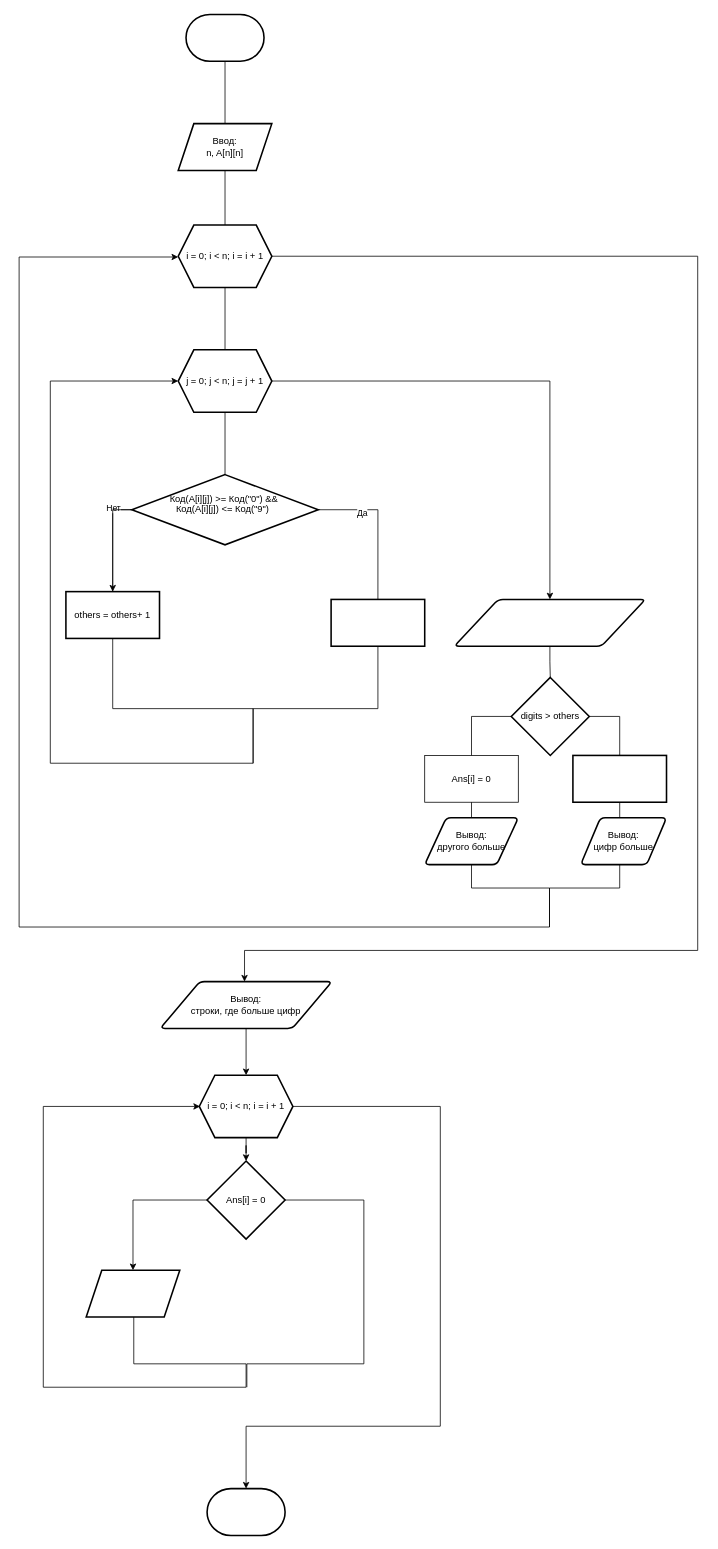
Some shapes in this 718 by 1549 pixel diagram are drawn without their labels. Here are the shapes that lost their labels. From the top down, the centre of each, then its label:
(x=224, y=37): Начало
(x=377, y=622): digits= digits+ 1
(x=549, y=622): Вывод: Строка i + 1: цифр = digits, других символов = others ->
(x=619, y=778): Ans[i] = 1
(x=132, y=1293): Вывод: i
(x=245, y=1511): Конец
